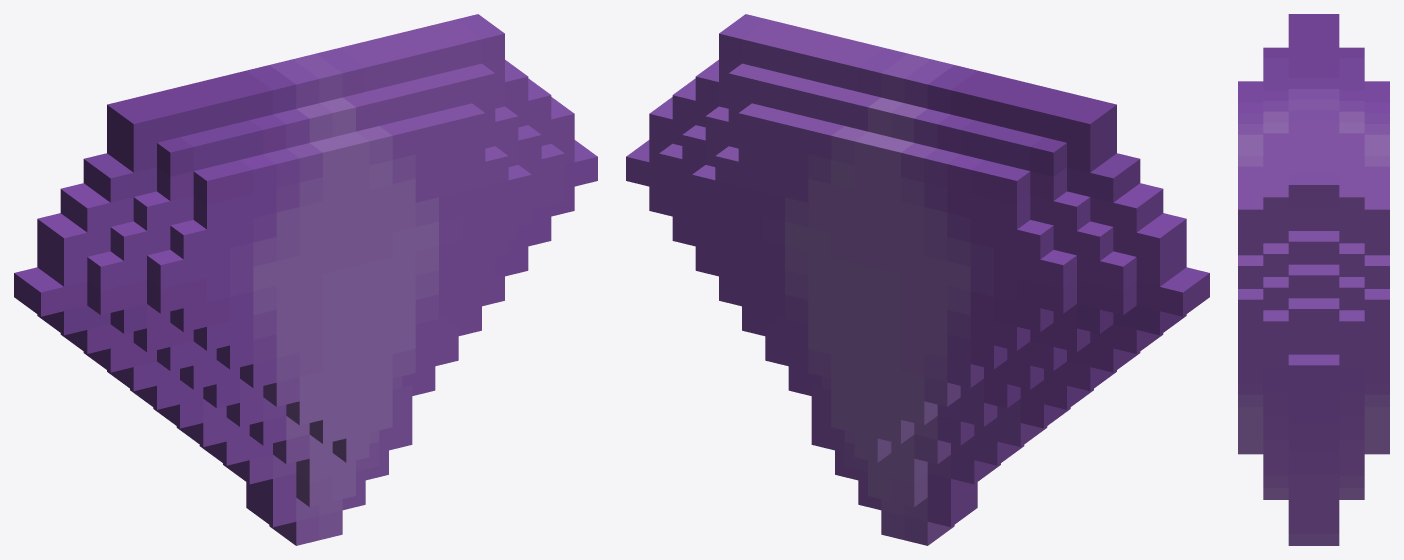
The model's file is gem-purple.glb.
3 views of the same model, side by side, from view 1: azimuth 30°, elevation 25°; view 2: azimuth 150°, elevation 25°; view 3: azimuth 270°, elevation 25° (orthographic). The views are drawn at different scales.
Parts seen in each view (by area): view 1: prop; view 2: prop; view 3: prop.
Part boxes in pixels (left/top/right/bottom): prop: left=14, top=14, right=597, bottom=545; prop: left=626, top=14, right=1209, bottom=545; prop: left=1238, top=14, right=1389, bottom=545.
Bounding box in the file's own units: 16.42 × 13 × 4.11.
